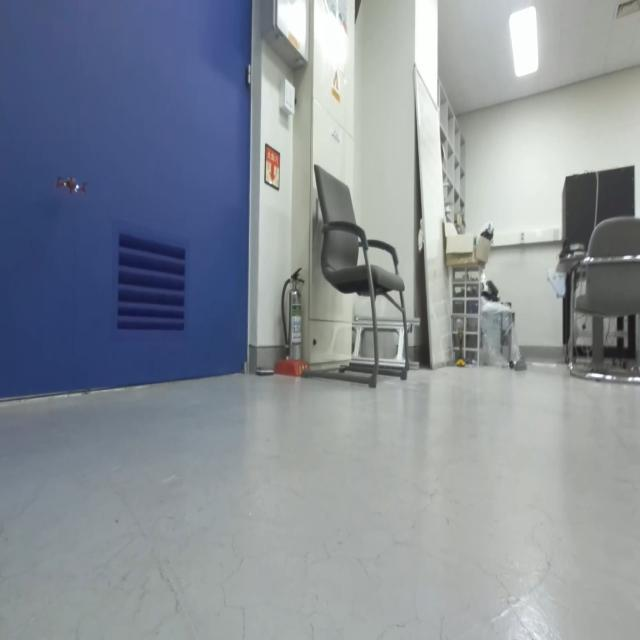crazyflie: (53, 166, 90, 203)
